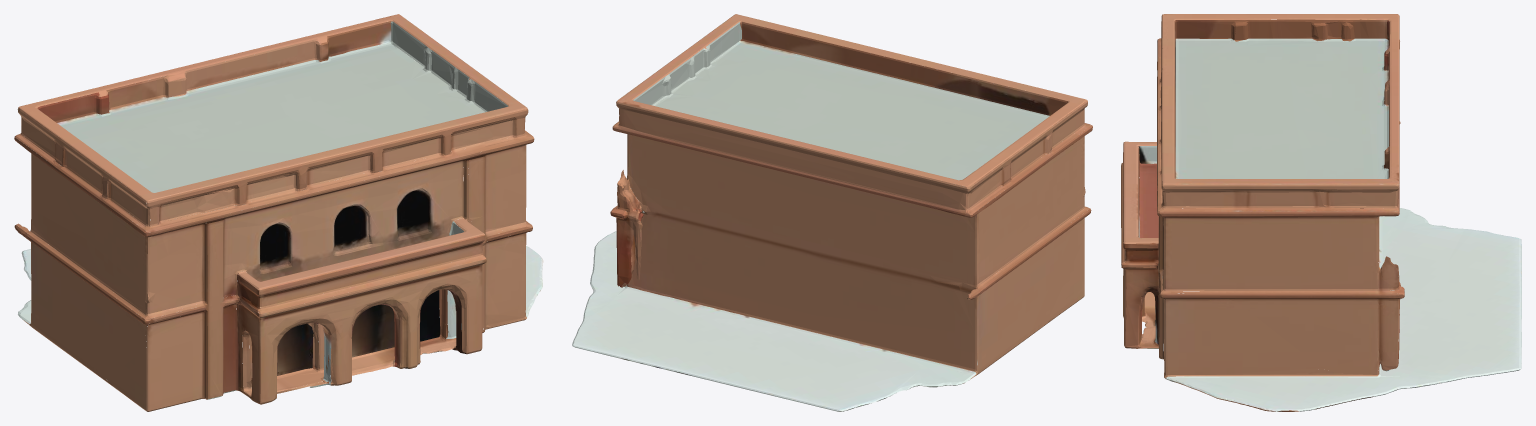
Rendered from 15_virtual_sand_hall.glb.
3 renders of one model, left to right at view 1: azimuth 30°, elevation 25°; view 2: azimuth 150°, elevation 25°; view 3: azimuth 270°, elevation 25°, orthographic. The views are drawn at different scales.
Visible parts, largest first — view 1: 15_virtual_sand_hall.ply; view 2: 15_virtual_sand_hall.ply; view 3: 15_virtual_sand_hall.ply.
Boxes of the visible parts, x1,y1,x2,y2 form: 15_virtual_sand_hall.ply: [14, 14, 543, 411]; 15_virtual_sand_hall.ply: [572, 14, 1092, 411]; 15_virtual_sand_hall.ply: [1121, 14, 1521, 411].
Size of the model in its own units: 0.9999 by 0.4436 by 0.8234.
1 material, 1 textured.
